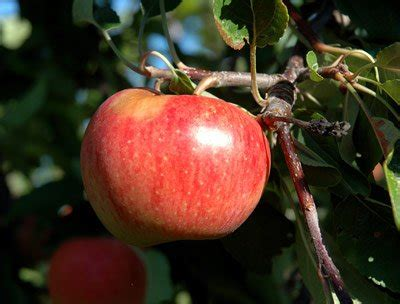apple: (76, 80, 274, 252)
